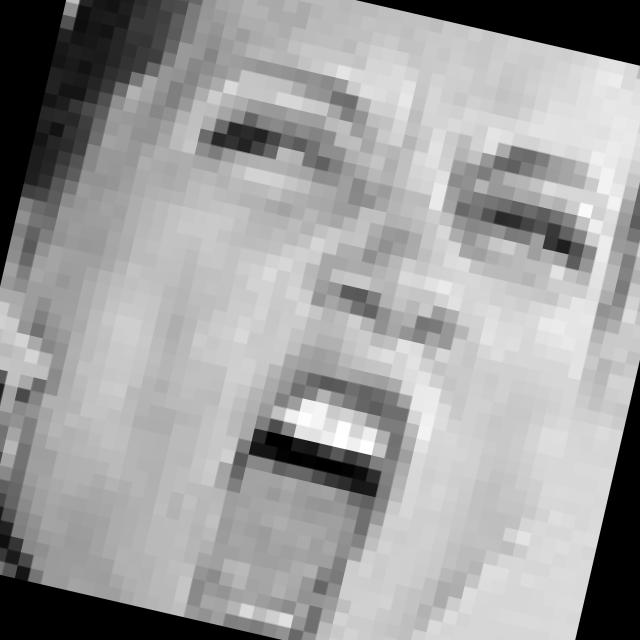angry: (94, 41, 633, 640)
